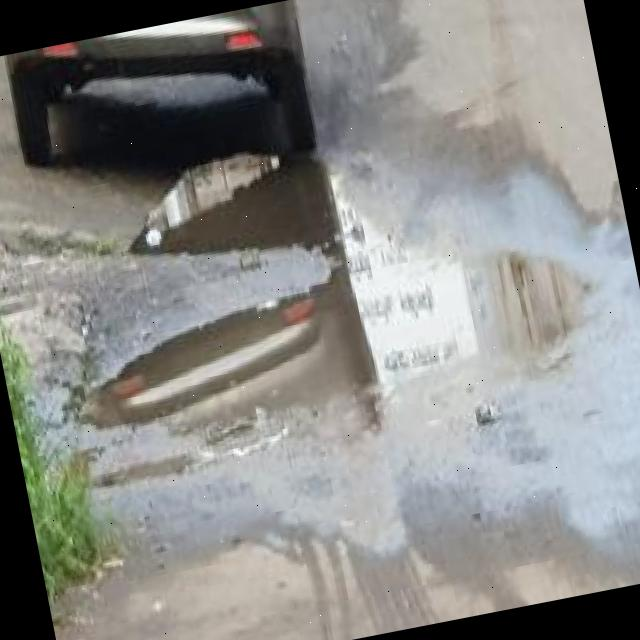stagnation: (79, 202, 627, 518)
